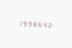eight: (32, 19, 36, 28)
four: (42, 20, 46, 28)
nine: (22, 19, 26, 27), (27, 19, 31, 27)
one: (17, 18, 21, 26)
six: (37, 20, 41, 28)
two: (47, 20, 51, 29)
